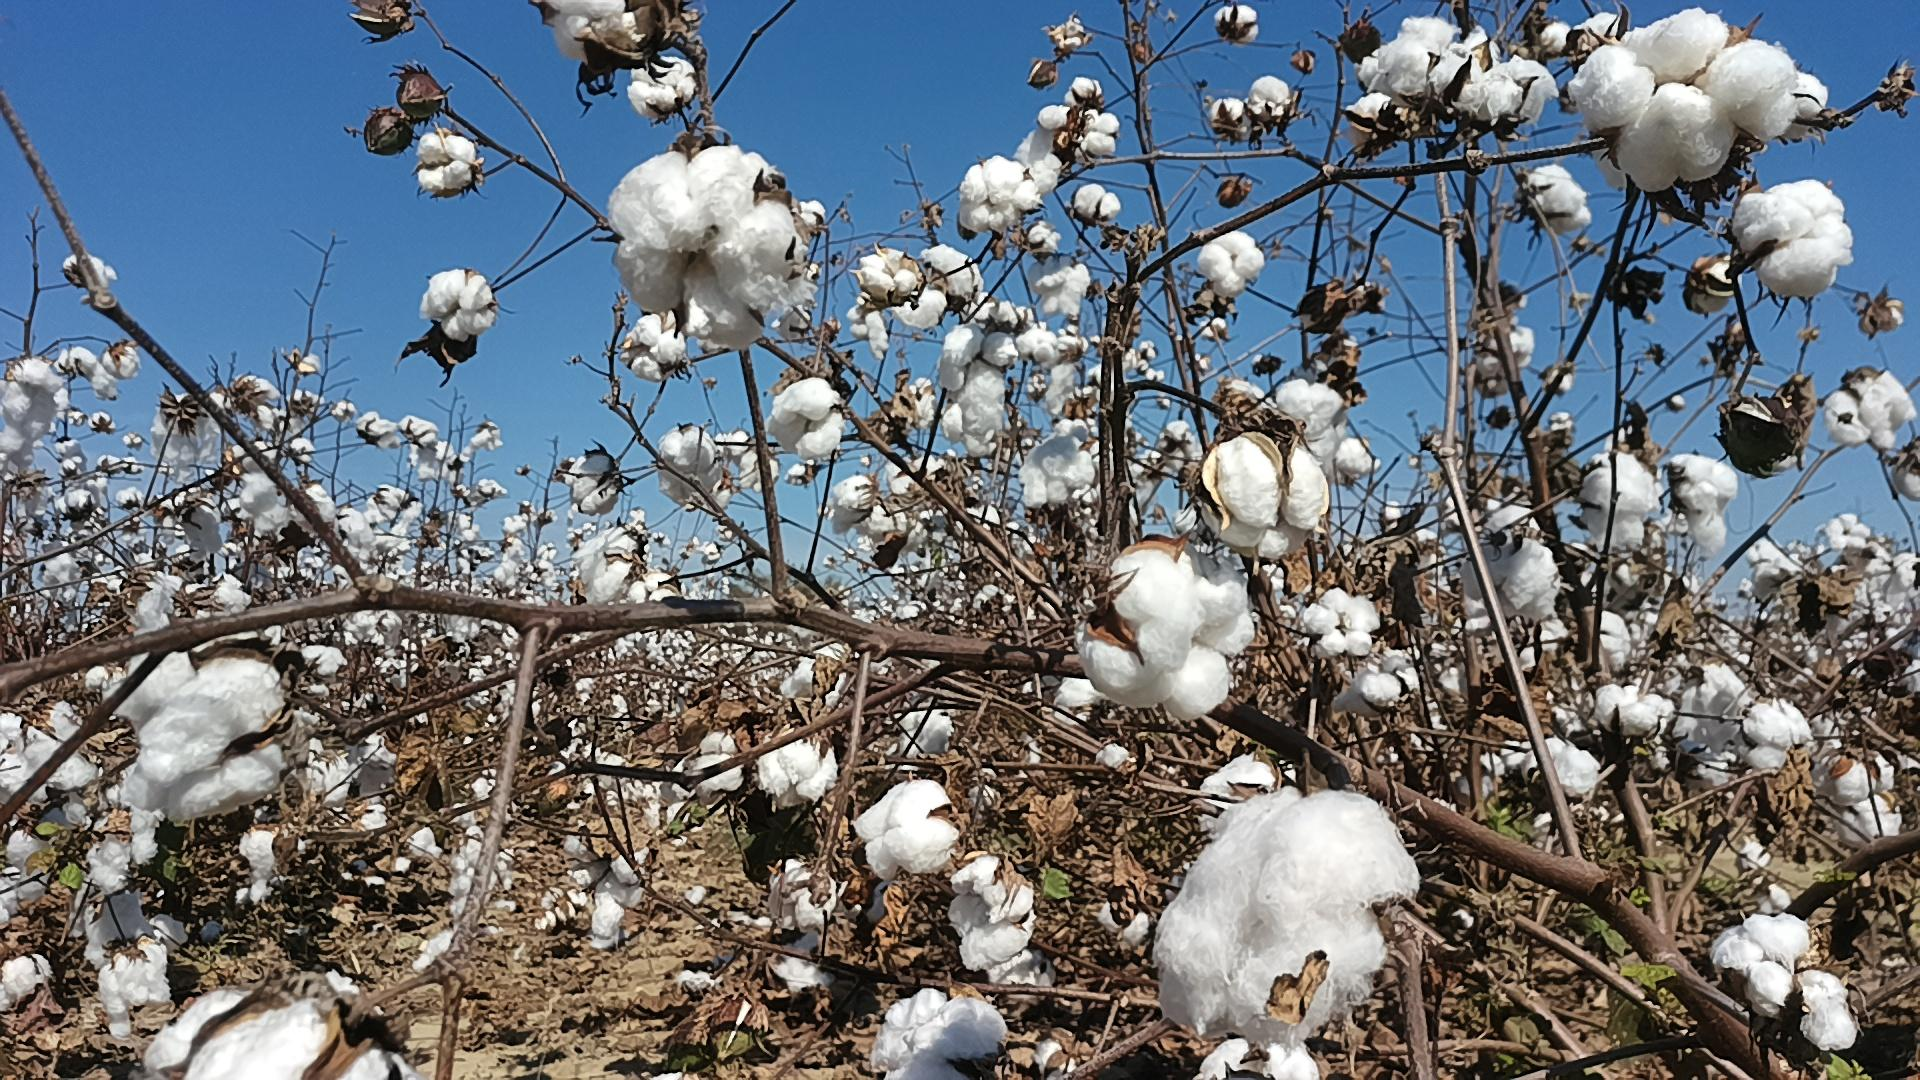cotton_ready: (1158, 790, 1423, 1038), (1573, 8, 1801, 187), (603, 148, 814, 339), (1083, 546, 1258, 720), (128, 654, 287, 822), (145, 988, 425, 1080), (1714, 918, 1855, 1052), (1727, 178, 1857, 303), (83, 777, 165, 964), (1209, 435, 1328, 558), (281, 720, 398, 832), (1011, 79, 1125, 194), (878, 988, 1011, 1080), (877, 989, 1011, 1080), (0, 700, 100, 819), (407, 827, 487, 975), (936, 301, 1023, 434), (1431, 49, 1559, 133), (853, 777, 959, 877), (1278, 377, 1383, 476), (562, 831, 647, 952), (949, 852, 1038, 969), (1518, 603, 1634, 688), (1360, 13, 1465, 98), (1462, 537, 1563, 622), (96, 939, 175, 1042), (232, 816, 310, 916), (1673, 661, 1750, 754), (762, 381, 847, 463), (658, 423, 736, 509), (156, 392, 228, 483), (757, 735, 840, 814), (1588, 458, 1663, 545), (959, 158, 1043, 232), (1832, 754, 1905, 839), (1193, 1031, 1320, 1080), (1829, 378, 1916, 447), (0, 356, 67, 444), (1675, 458, 1738, 551), (571, 526, 647, 603), (1737, 696, 1815, 771), (1021, 435, 1097, 508), (421, 270, 496, 343), (1307, 592, 1381, 661), (762, 861, 837, 928), (550, 0, 651, 49), (1199, 231, 1270, 298), (1338, 663, 1420, 719), (414, 131, 483, 196), (678, 731, 746, 796), (1527, 742, 1601, 803), (1593, 686, 1676, 738), (1532, 167, 1598, 232), (765, 934, 833, 994), (629, 59, 700, 116), (560, 452, 621, 514), (858, 251, 923, 301), (1354, 95, 1399, 149), (1073, 187, 1121, 219)
